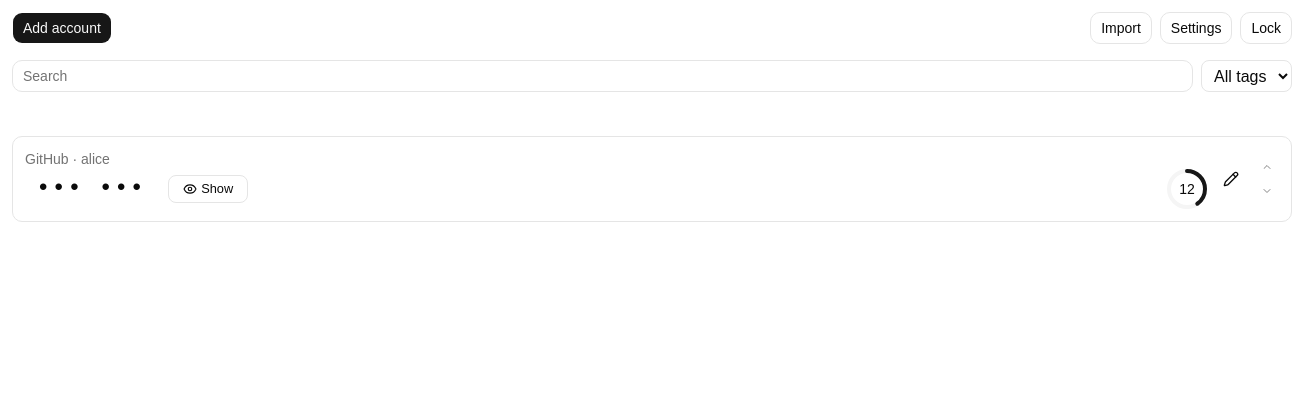
Test: OpenVault settings › opens and closes the settings screen
The width and height of the screenshot is (1304, 397).
What coordinates should you click on to do the following:
click the button "Settings"
I would click on:
 (1196, 28)
Its box is [1160, 12, 1232, 44].
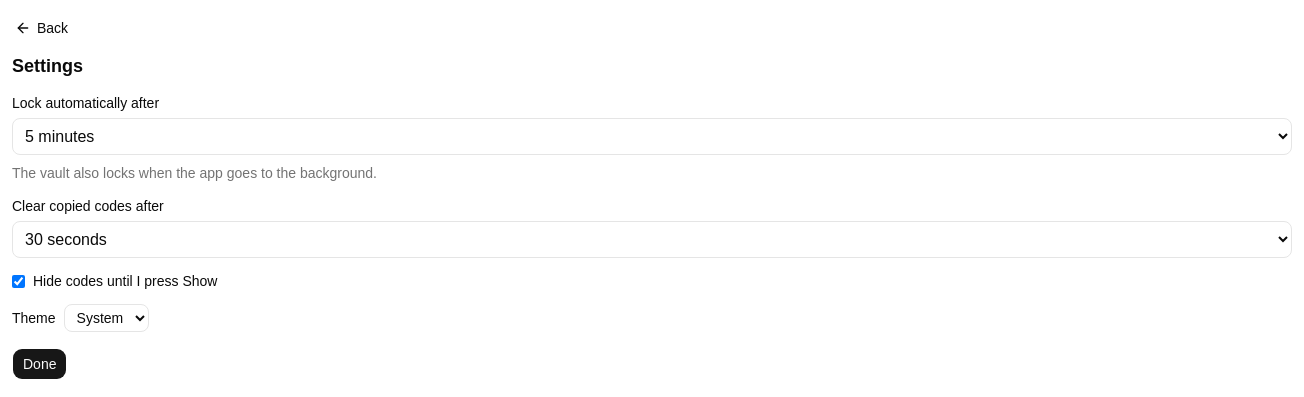
Now the element "Settings" is shown
What coordinates should you click on to do the following:
click the button "Done"
I would click on:
 (40, 364)
Its box is [12, 348, 68, 380].
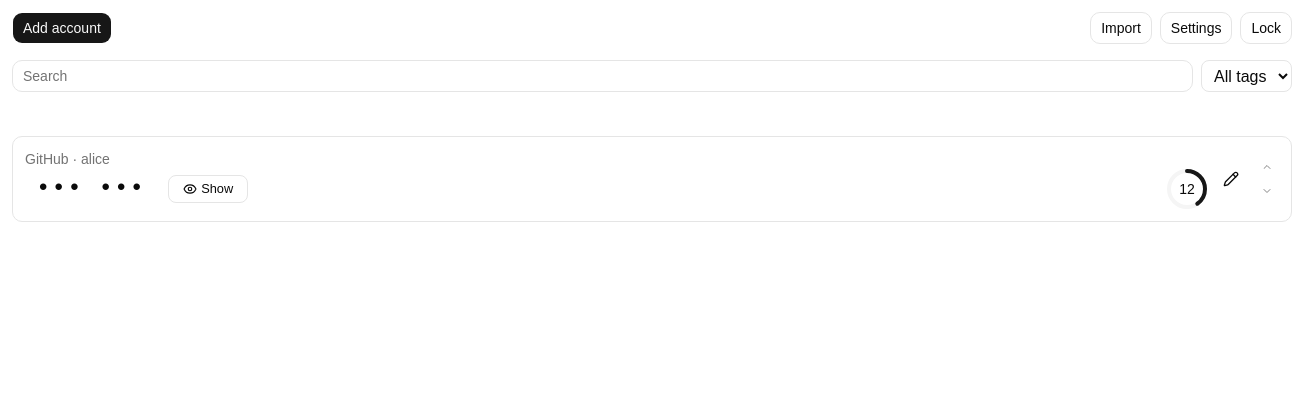
Now the text "GitHub · alice" is shown, box [25, 151, 110, 167]
